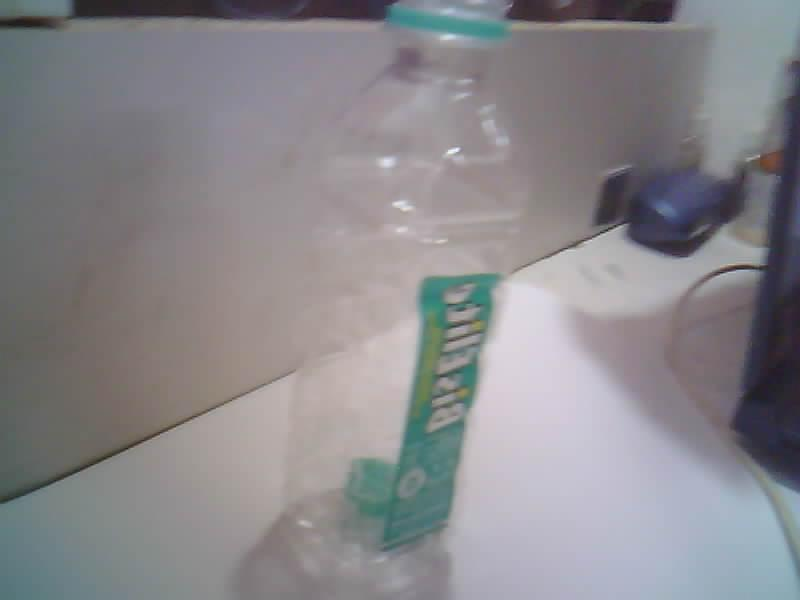non-biodegradable: (276, 0, 528, 599)
